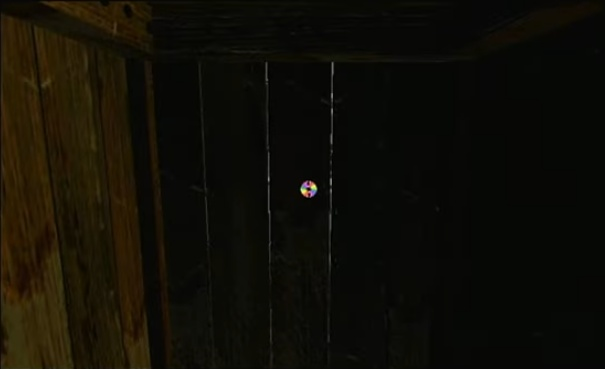Waiting: (296, 176, 321, 201)
